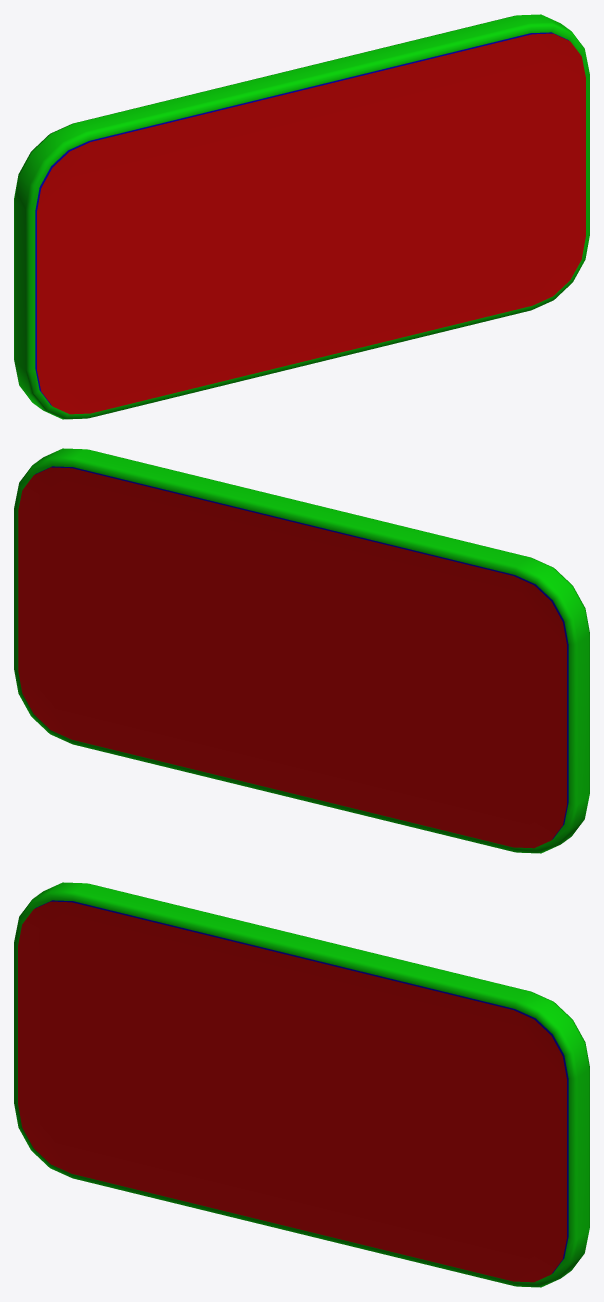
File: Medium.obj
The picture shows the model from 3 angles, top to bottom: view 1: azimuth 30°, elevation 25°; view 2: azimuth 150°, elevation 25°; view 3: azimuth 330°, elevation 25°; orthographic projection.
Visible parts, largest first — view 1: medium_image_Untitled.006, medium_frame_Untitled.008, medium_backdrop_Untitled.007; view 2: medium_image_Untitled.006, medium_frame_Untitled.008, medium_backdrop_Untitled.007; view 3: medium_image_Untitled.006, medium_frame_Untitled.008, medium_backdrop_Untitled.007.
Boxes of the visible parts, x1,y1,x2,y2 form: medium_image_Untitled.006: (37,33,585,414); medium_frame_Untitled.008: (14,14,589,419); medium_backdrop_Untitled.007: (35,32,568,405); medium_image_Untitled.006: (18,467,566,848); medium_frame_Untitled.008: (14,448,589,853); medium_backdrop_Untitled.007: (35,466,568,839); medium_image_Untitled.006: (18,901,566,1282); medium_frame_Untitled.008: (14,882,589,1287); medium_backdrop_Untitled.007: (35,900,568,1273).
Bounding box in the file's own units: 1.88 × 0.9129 × 0.1087.
